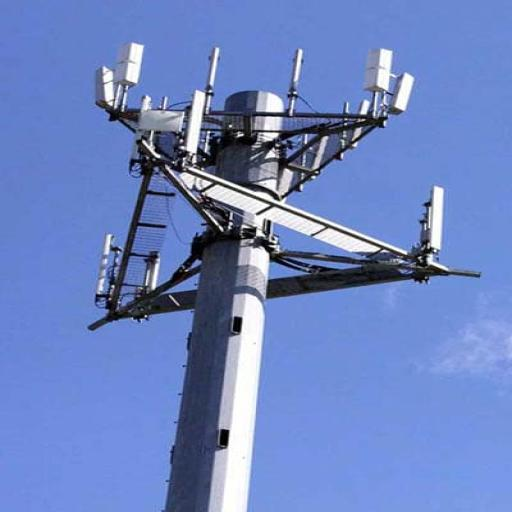monopole_tower: (85, 38, 485, 511)
